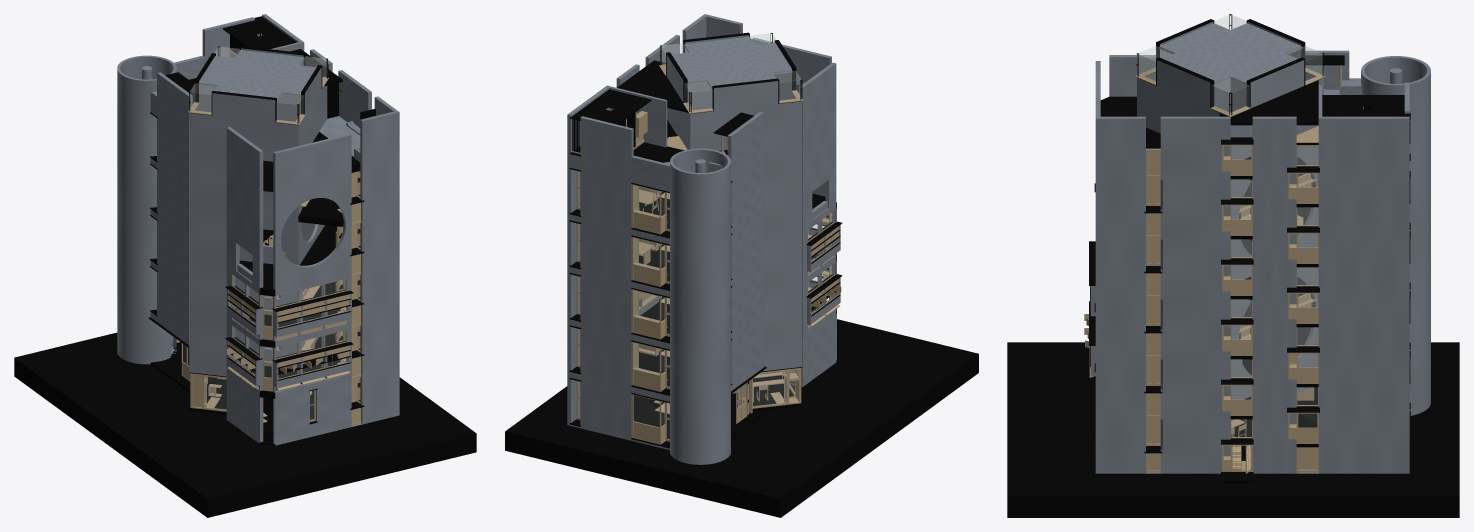
File: sawara-building-exterior-v2.glb
3 views of the same model, side by side, from view 1: azimuth 30°, elevation 25°; view 2: azimuth 150°, elevation 25°; view 3: azimuth 270°, elevation 25° (orthographic). The views are drawn at different scales.
Parts seen in each view (by area): view 1: web_03_RC_, web_10___, web_05__, web_04____, web_06__, web_08____, web_07_RC__, web_09____, web_11_RC___; view 2: web_03_RC_, web_10___, web_06__, web_04____, web_05__, web_08____, web_07_RC__, web_09____, web_02_____hide; view 3: web_03_RC_, web_10___, web_06__, web_04____, web_08____, web_07_RC__, web_05__, web_09____, web_02_____hide.
Boxes of the visible parts, x1,y1,x2,y2 form: web_03_RC_: [117, 14, 399, 445]; web_10___: [14, 35, 476, 517]; web_05__: [150, 33, 360, 445]; web_04____: [182, 47, 359, 419]; web_06__: [176, 49, 361, 425]; web_08____: [148, 16, 364, 424]; web_07_RC__: [198, 50, 360, 161]; web_09____: [176, 51, 356, 422]; web_11_RC___: [319, 116, 360, 156]; web_03_RC_: [567, 14, 840, 464]; web_10___: [505, 112, 978, 517]; web_06__: [576, 64, 839, 444]; web_04____: [579, 33, 837, 439]; web_05__: [572, 32, 836, 439]; web_08____: [569, 89, 842, 448]; web_07_RC__: [664, 36, 792, 164]; web_09____: [571, 113, 841, 441]; web_02_____hide: [617, 60, 688, 112]; web_03_RC_: [1090, 22, 1430, 473]; web_10___: [1007, 106, 1459, 517]; web_06__: [1135, 65, 1363, 472]; web_04____: [1138, 15, 1322, 436]; web_08____: [1089, 55, 1410, 469]; web_07_RC__: [1159, 23, 1302, 85]; web_05__: [1100, 14, 1371, 460]; web_09____: [1084, 177, 1314, 473]; web_02_____hide: [1219, 80, 1318, 125].
Size of the model in its own units: 15 by 18.08 by 18.67.
5 materials, 1 textured.
